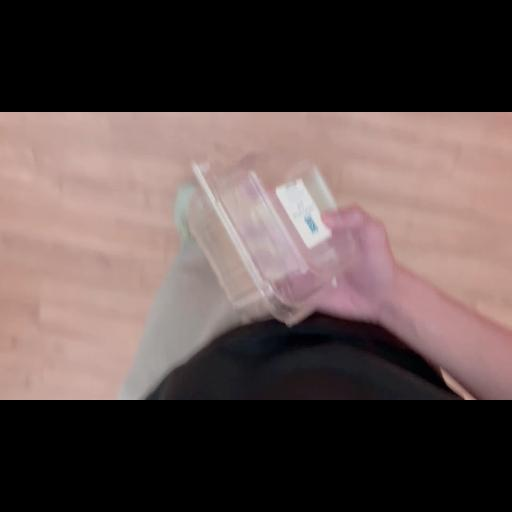small_plastic_container: (188, 150, 350, 324)
